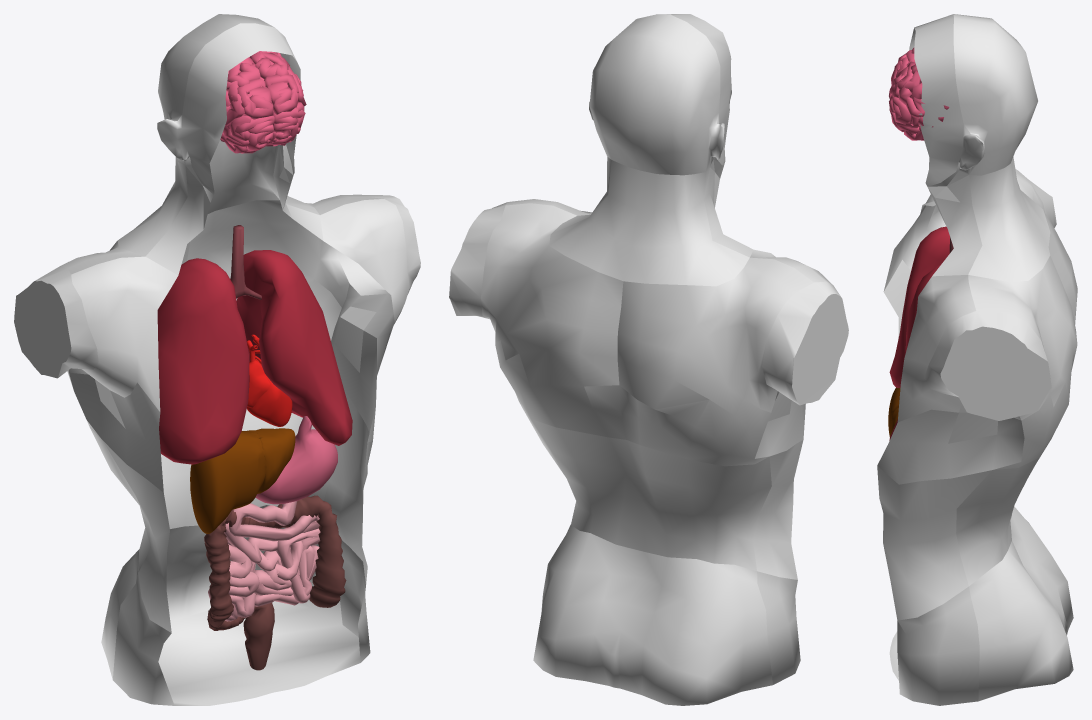
The model's file is avatar.gltf.
The picture shows the model from 3 angles, left to right: view 1: azimuth 30°, elevation 25°; view 2: azimuth 150°, elevation 25°; view 3: azimuth 270°, elevation 25°; orthographic projection.
Visible parts, largest first — view 1: маникен, Sphere.001, Sphere, BezierCurve.001, Circle, BezierCurve.003, Cube, Circle.001, Sphere.002, Plane; view 2: маникен; view 3: маникен, BezierCurve.003, Sphere.001, Sphere, Cube.
Part boxes in pixels (bbox=[...]): маникен: bbox=[14, 14, 420, 705]; Sphere.001: bbox=[157, 258, 249, 464]; Sphere: bbox=[236, 250, 352, 445]; BezierCurve.001: bbox=[208, 501, 320, 621]; Circle: bbox=[204, 495, 346, 670]; BezierCurve.003: bbox=[220, 51, 306, 153]; Cube: bbox=[190, 428, 295, 534]; Circle.001: bbox=[255, 416, 337, 504]; Sphere.002: bbox=[247, 334, 292, 426]; Plane: bbox=[230, 225, 261, 299]; маникен: bbox=[449, 14, 848, 705]; маникен: bbox=[877, 14, 1077, 705]; BezierCurve.003: bbox=[889, 47, 949, 140]; Sphere.001: bbox=[889, 226, 949, 387]; Sphere: bbox=[889, 263, 941, 440]; Cube: bbox=[888, 387, 900, 436].
Size of the model in its own units: 1.37 by 2.51 by 0.6963.
